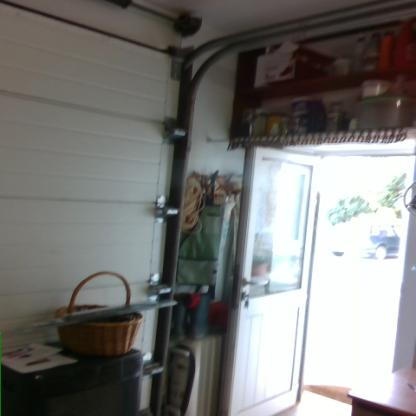open: (228, 136, 415, 415)
